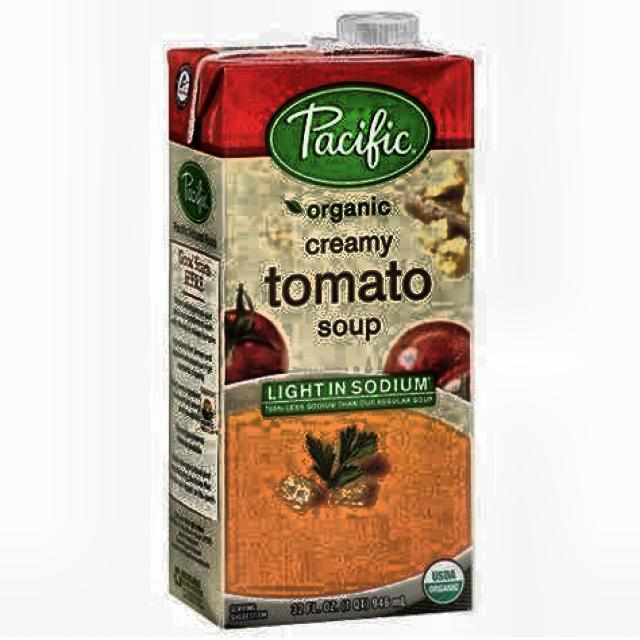cardboard: (164, 36, 476, 628)
